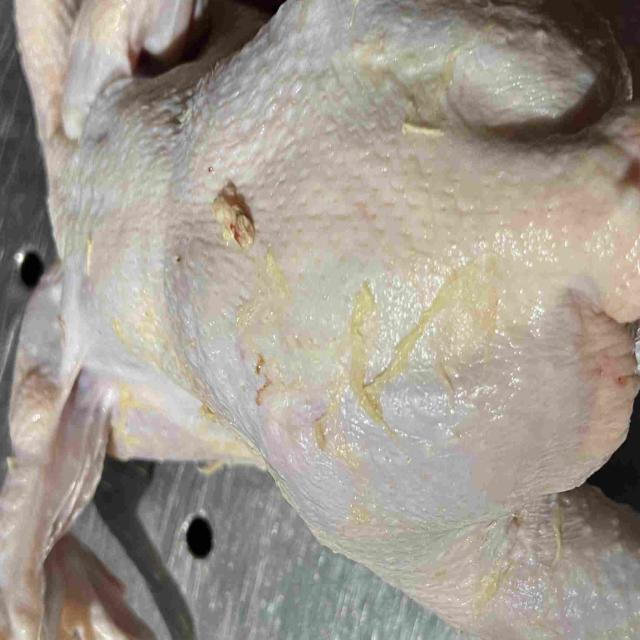back: (53, 14, 640, 472)
leg: (266, 455, 640, 640)
neck: (6, 0, 77, 199)
wing: (0, 273, 178, 640), (63, 0, 192, 118)
